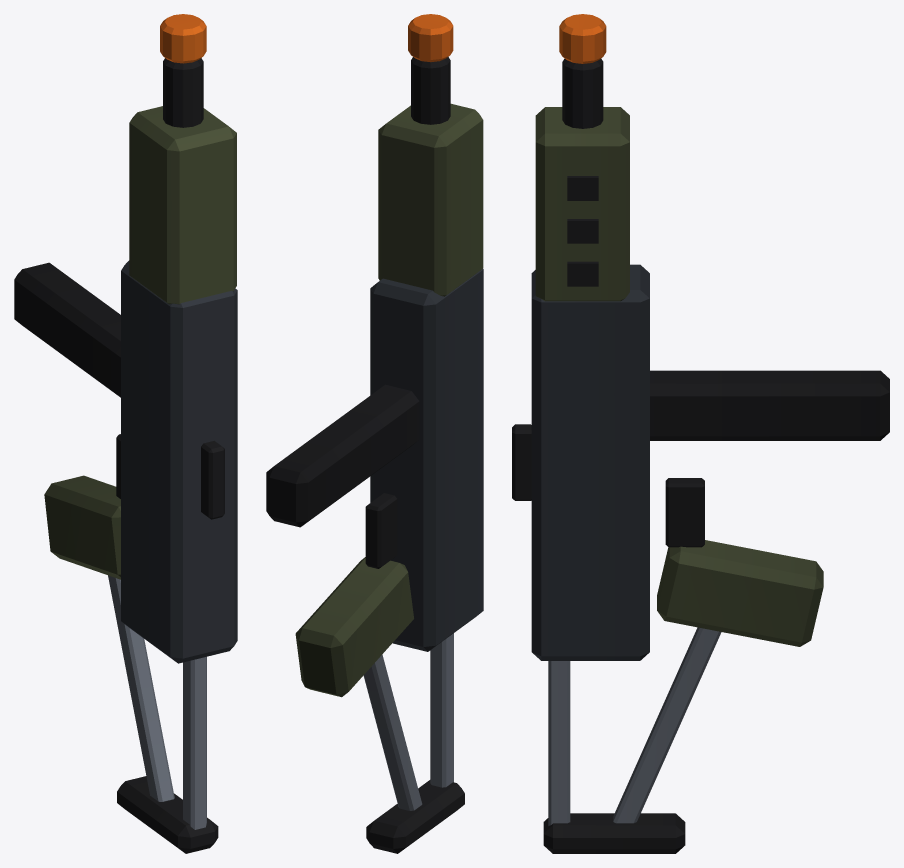
The model's file is hornet.glb.
The picture shows the model from 3 angles, left to right: view 1: azimuth 30°, elevation 25°; view 2: azimuth 150°, elevation 25°; view 3: azimuth 270°, elevation 25°; orthographic projection. The views are drawn at different scales.
Visible parts, largest first — view 1: hornet; view 2: hornet; view 3: hornet.
Part boxes in pixels (x1,y1,x2,y2): hornet: [14, 14, 237, 853]; hornet: [266, 14, 483, 853]; hornet: [512, 14, 889, 853].
Size of the model in its own units: 0.055 by 0.579 by 0.24.
